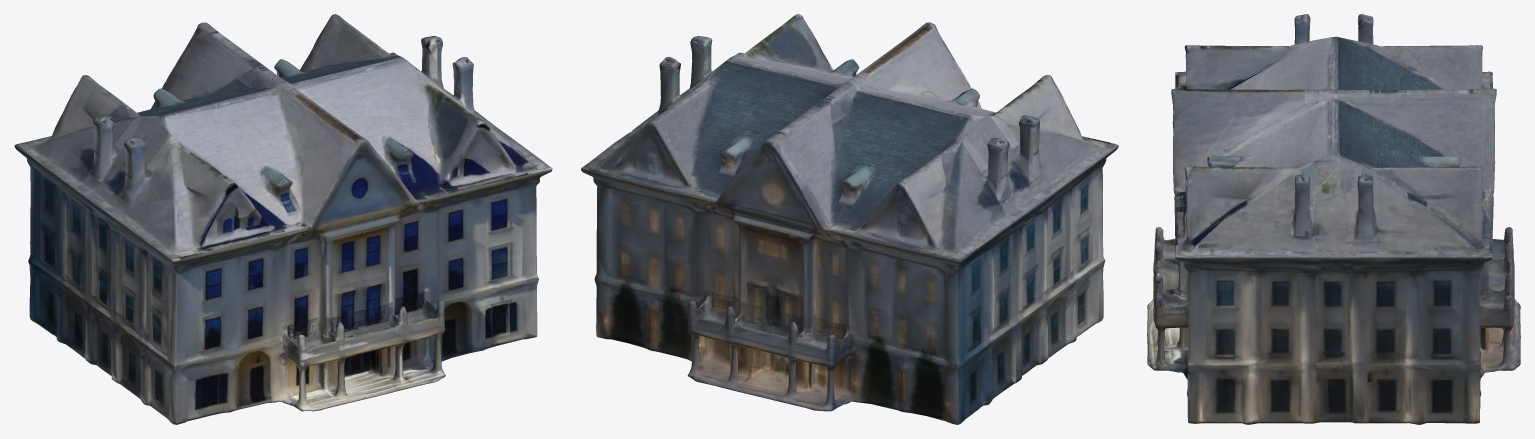
The model's file is mansion.glb.
The picture shows the model from 3 angles, left to right: view 1: azimuth 30°, elevation 25°; view 2: azimuth 150°, elevation 25°; view 3: azimuth 270°, elevation 25°; orthographic projection.
Visible parts, largest first — view 1: Mesh1; view 2: Mesh1; view 3: Mesh1.
Boxes of the visible parts, x1,y1,x2,y2 form: Mesh1: [14, 14, 552, 424]; Mesh1: [581, 14, 1118, 424]; Mesh1: [1147, 14, 1520, 424].
Size of the model in its own units: 2.01 by 1.25 by 1.71.
Materials: 1 (1 with a texture image).
